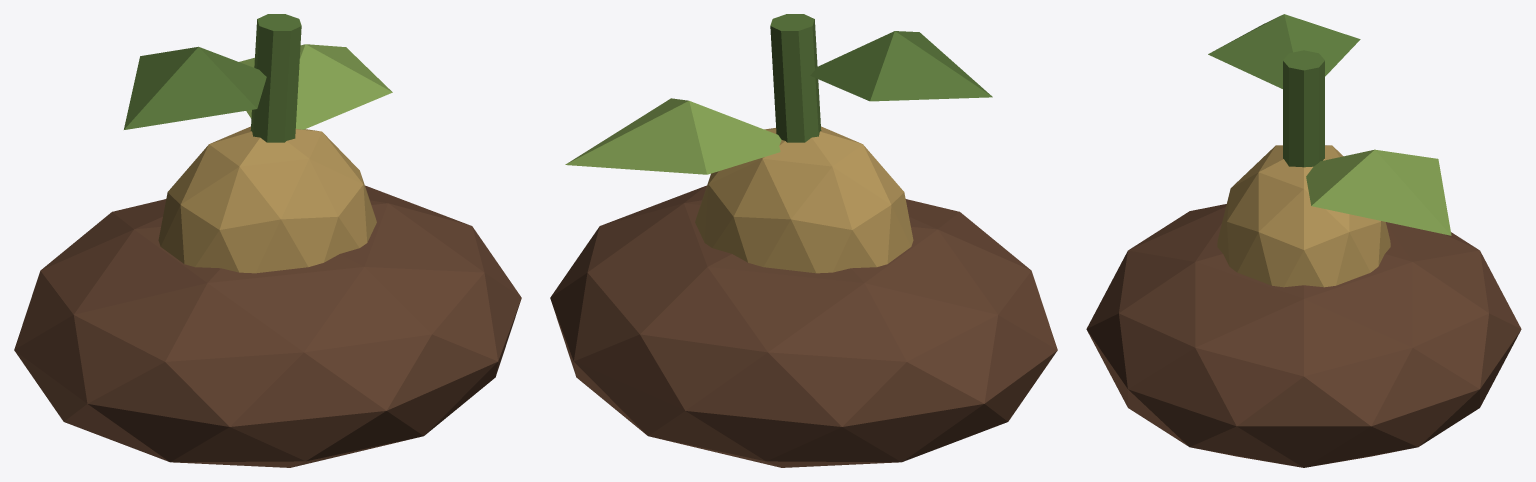
Rendered from strange-seed.glb.
3 renders of one model, left to right at view 1: azimuth 30°, elevation 25°; view 2: azimuth 150°, elevation 25°; view 3: azimuth 270°, elevation 25°, orthographic. The views are drawn at different scales.
Visible parts, largest first — view 1: StrangeSeed; view 2: StrangeSeed; view 3: StrangeSeed.
Part boxes in pixels (box(x1,y1,x2,y2)): StrangeSeed: box(14, 14, 521, 467); StrangeSeed: box(550, 14, 1057, 467); StrangeSeed: box(1086, 14, 1521, 467).
Bounding box in the file's own units: 0.7608 × 0.69 × 0.72.
